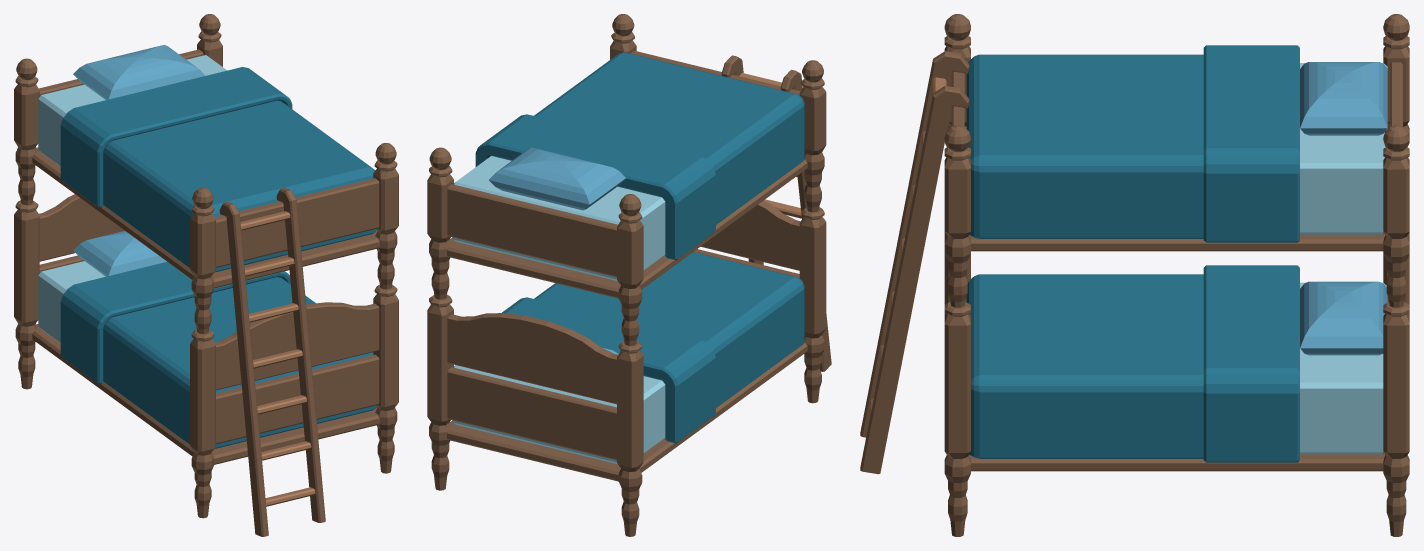
The model's file is Prop_Bedroom_Bed_Bunk.obj.
The picture shows the model from 3 angles, left to right: view 1: azimuth 30°, elevation 25°; view 2: azimuth 150°, elevation 25°; view 3: azimuth 270°, elevation 25°; orthographic projection. The views are drawn at different scales.
Visible parts, largest first — view 1: object8, object6, object3, object7, object1, object4, object2, object5; view 2: object8, object6, object3, object1, object4, object5, object7; view 3: object6, object3, object8, object7, object4, object5, object1, object2.
Part boxes in pixels (box(x1,y1,x2,y2)): object8: box(14, 14, 398, 518); object6: box(60, 67, 376, 272); object3: box(60, 261, 376, 448); object7: box(219, 187, 325, 536); object1: box(73, 45, 205, 99); object4: box(38, 55, 226, 166); object2: box(73, 231, 166, 276); object5: box(38, 261, 105, 342); object8: box(427, 14, 826, 536); object6: box(475, 52, 804, 260); object3: box(502, 252, 804, 443); object1: box(489, 147, 625, 210); object4: box(452, 156, 665, 281); object5: box(452, 365, 665, 464); object7: box(721, 55, 831, 371); object6: box(966, 45, 1299, 242); object3: box(966, 265, 1299, 462); object8: box(944, 14, 1409, 536); object7: box(860, 51, 969, 474); object4: box(1300, 63, 1387, 234); object5: box(1300, 282, 1386, 454); object1: box(1300, 62, 1387, 135); object2: box(1300, 281, 1387, 355).
Size of the model in its own units: 1.41 by 2.2 by 2.68.
